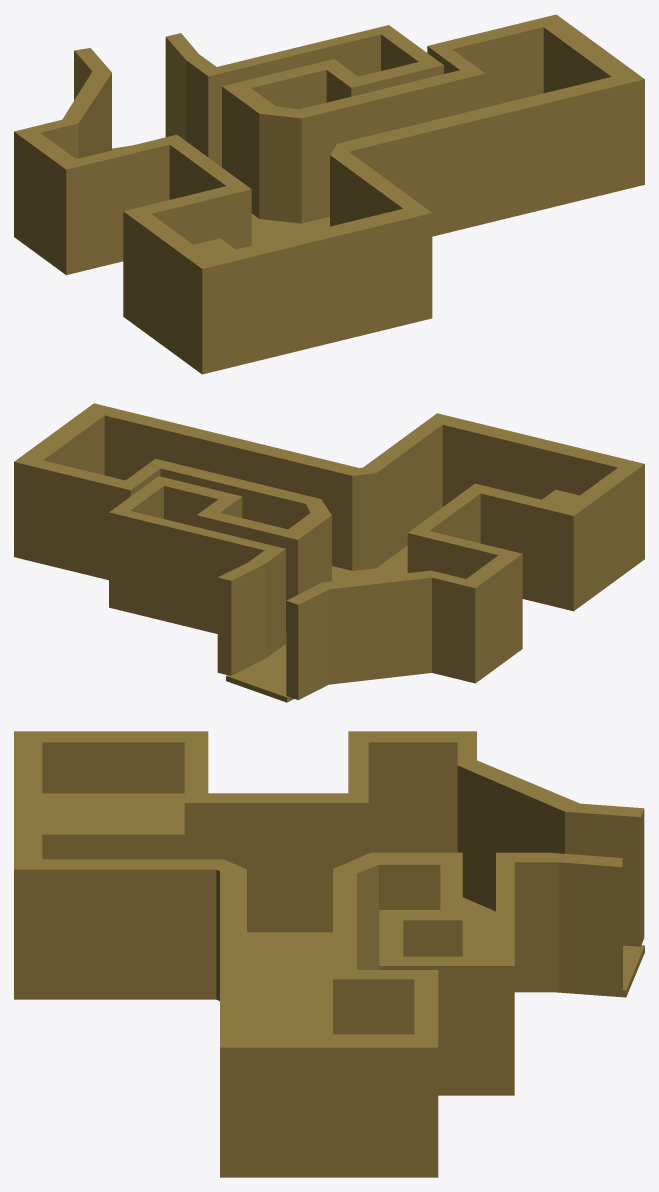
File: lvlP1.FBX
3 views of the same model, one above another, from view 1: azimuth 30°, elevation 25°; view 2: azimuth 150°, elevation 25°; view 3: azimuth 270°, elevation 25° (orthographic). The views are drawn at different scales.
Visible parts, largest first — view 1: Rectangle015, Line034; view 2: Rectangle015, Line034; view 3: Rectangle015, Line034, Box387.
Boxes of the visible parts, bbox=[...] form: Rectangle015: bbox=[14, 14, 644, 374]; Line034: bbox=[112, 145, 329, 245]; Rectangle015: bbox=[14, 403, 644, 699]; Line034: bbox=[226, 545, 407, 702]; Rectangle015: bbox=[14, 731, 644, 1177]; Line034: bbox=[247, 897, 644, 1034]; Box387: bbox=[42, 793, 184, 859].
Bounding box in the file's own units: 5436 × 1095 × 4580.
